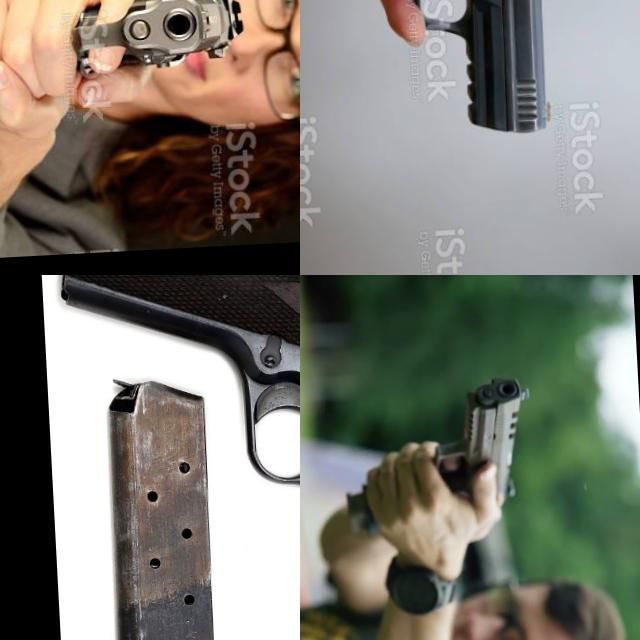handgun: (51, 275, 300, 640), (385, 0, 560, 190), (423, 372, 539, 511), (66, 0, 249, 79)
